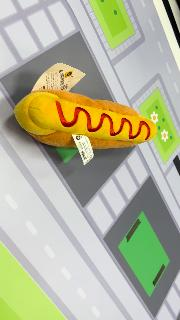hotdog: (14, 89, 158, 151)
